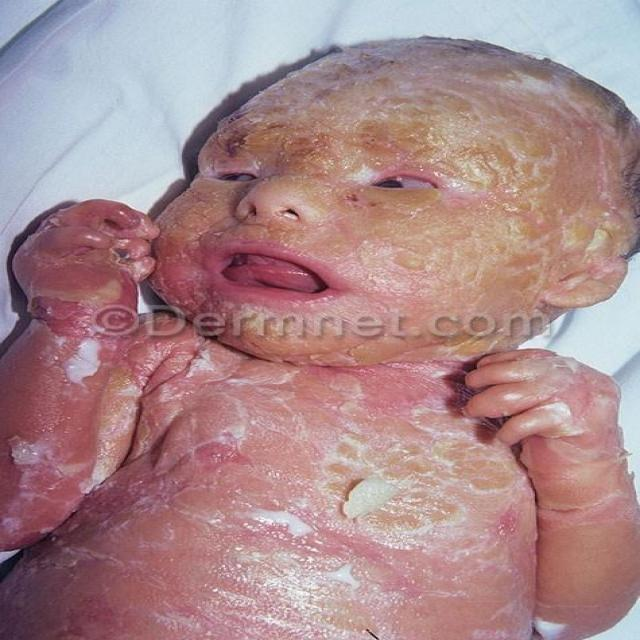Eczema: (172, 43, 627, 335), (136, 342, 519, 548), (0, 224, 159, 520), (498, 353, 640, 534)
